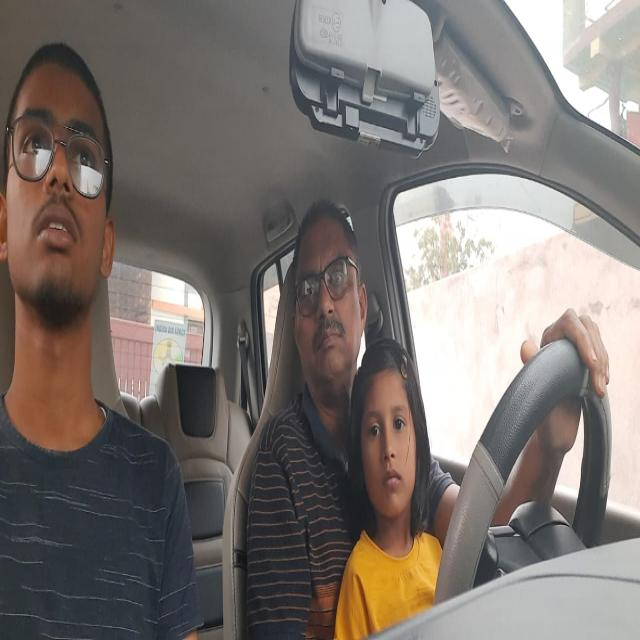child: (357, 338, 423, 539)
person: (0, 33, 120, 345), (286, 184, 372, 388)
